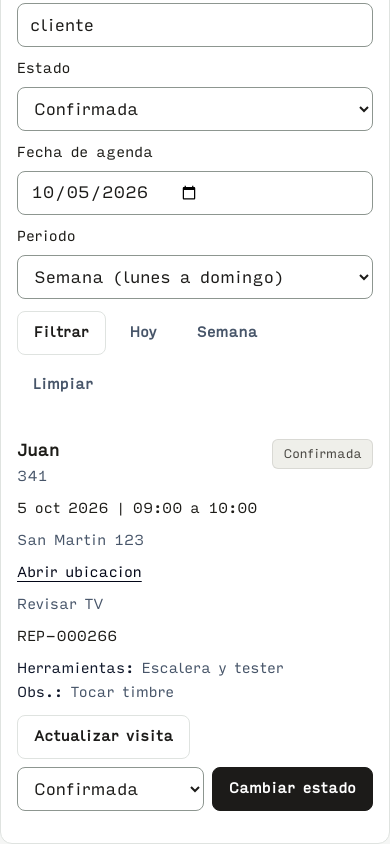
Test case: one visit workflow › shows plain observations and a separate read-only checklist to technicians
The image size is (390, 844).
(page scrolled)
Click the button "Actualizar visita" at (104, 737), box [17, 715, 190, 759]
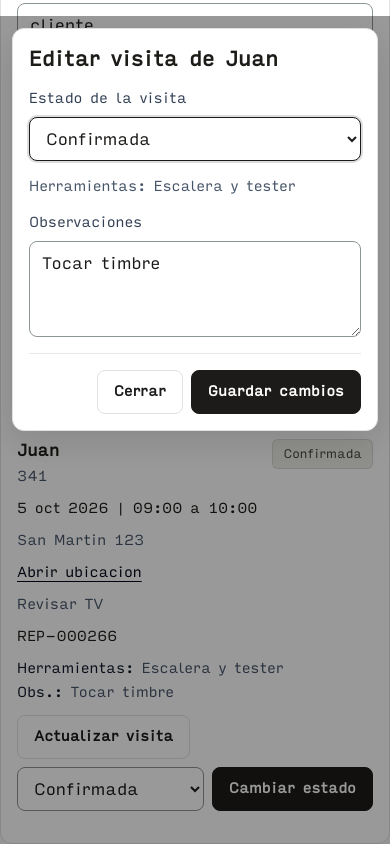
Expected: the text box labelled "Observaciones" holds "Tocar timbre", [29, 241, 361, 337]
Expected: the text "Herramientas: Escalera y tester" is shown, [29, 178, 296, 195]
